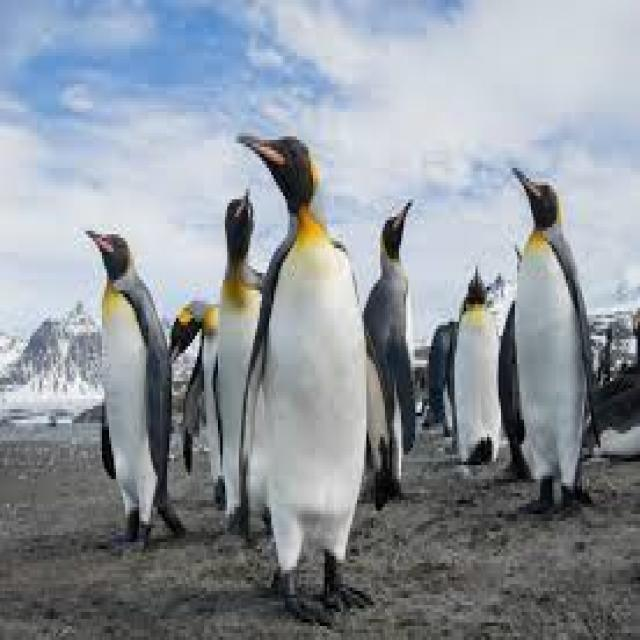Penguin: (236, 127, 387, 626), (84, 222, 190, 556), (508, 154, 601, 526), (219, 178, 265, 522)
